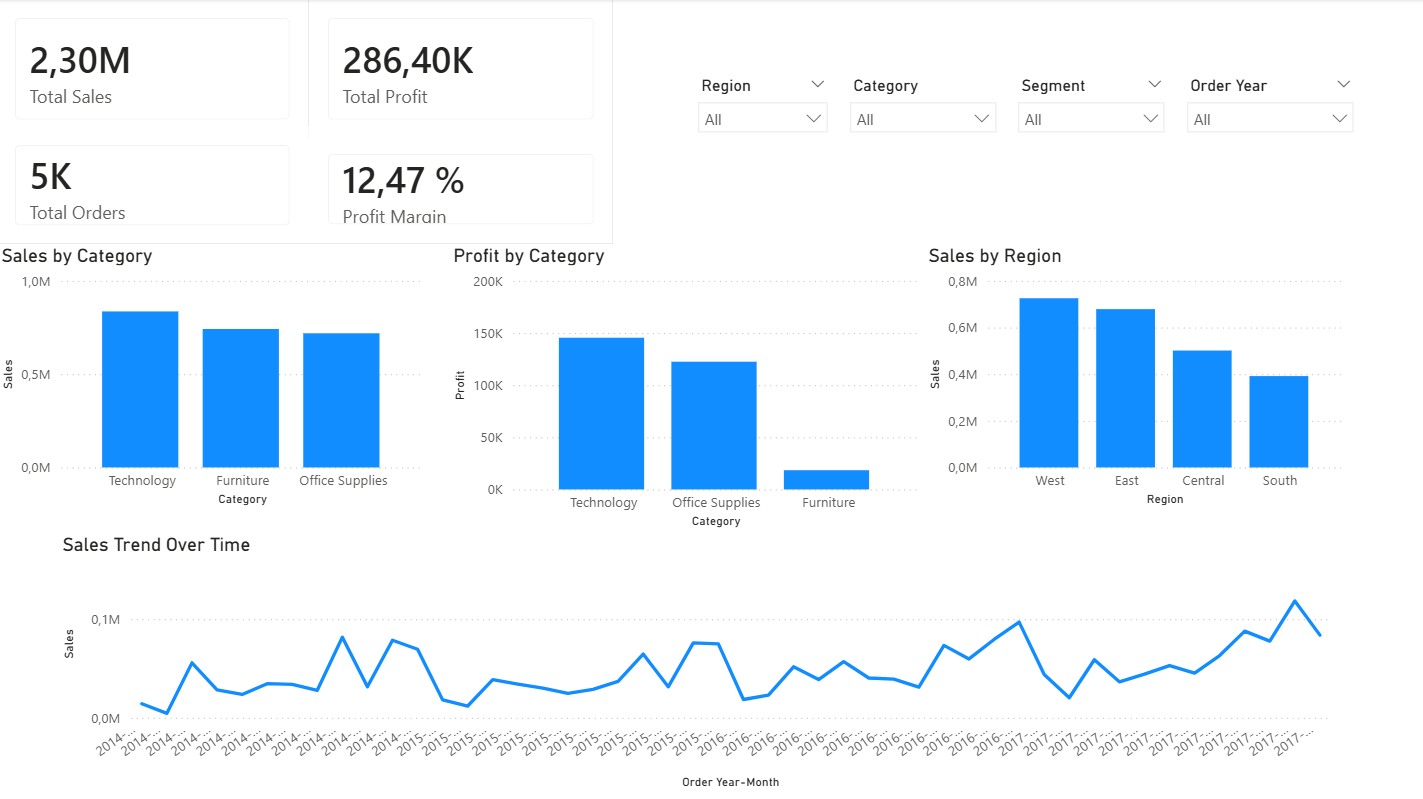

The dashboard page shown, as its layout file describes it:
{"tool":"powerbi","page":{"name":"Sales Overview","canvas":[1280,720],"ordinal":0},"visuals":[{"type":"columnChart","fields":{"Category":["superstore_powerbi_ready.Region"],"Y":["Sum(superstore_powerbi_ready.Sales)"]},"box":[829.9,219.4,379.8,239.1],"z":0},{"type":"columnChart","fields":{"Category":["superstore_powerbi_ready.Category"],"Y":["Sum(superstore_powerbi_ready.Sales)"]},"box":[0,219.4,388.2,239.1],"z":1000},{"type":"clusteredColumnChart","fields":{"Category":["superstore_powerbi_ready.Category"],"Y":["Sum(superstore_powerbi_ready.Profit)"]},"box":[405.1,219.4,426.7,258.8],"z":2000},{"type":"cardVisual","fields":{"Data":["superstore_powerbi_ready.Total Sales"]},"box":[0,0,280.1,125.3],"z":3000,"group":"g2"},{"type":"cardVisual","fields":{"Data":["superstore_powerbi_ready.Total Profit"]},"box":[280.1,0,272.2,125.3],"z":3001,"group":"g2"},{"type":"cardVisual","fields":{"Data":["superstore_powerbi_ready.Total Orders"]},"box":[0,113.4,280.1,106],"z":3002,"group":"g2"},{"type":"cardVisual","fields":{"Data":["superstore_powerbi_ready.Profit_Margin"]},"box":[280.1,121.6,272.2,97.9],"z":3003,"group":"g2"},{"type":"lineChart","title":"Sales Trend Over Time","fields":{"Category":["superstore_powerbi_ready.Order Year-Month"],"Y":["Sum(superstore_powerbi_ready.Sales)"]},"box":[54.4,478.2,1145,233.5],"z":3004},{"type":"slicer","fields":{"Values":["superstore_powerbi_ready.Region"]},"box":[618.9,64.7,136.2,71.3],"z":3006,"group":"g1"},{"type":"slicer","fields":{"Values":["superstore_powerbi_ready.Category"]},"box":[755.1,64.7,150.6,71.3],"z":3007,"group":"g1"},{"type":"slicer","fields":{"Values":["superstore_powerbi_ready.Segment"]},"box":[905.7,64.7,151.5,71.3],"z":3008,"group":"g1"},{"type":"slicer","fields":{"Values":["superstore_powerbi_ready.Order Year"]},"box":[1057.2,64.7,169.4,71.3],"z":3009,"group":"g1"},{"type":"group","id":"g1","title":"Group 1","box":[618.9,64.7,607.6,71.3],"z":3010},{"type":"group","id":"g2","title":"Group 2","box":[0,0,552.3,219.4],"z":3011}]}

Visuals, with their boxes in screenshot pixels (x1, y1, x2, y2), scaled from the page's 1280x720 canvas onto the 1423x799 screenshot:
columnChart - superstore_powerbi_ready.Region x Sum(superstore_powerbi_ready.Sales): 923:243:1345:509
columnChart - superstore_powerbi_ready.Category x Sum(superstore_powerbi_ready.Sales): 0:243:432:509
clusteredColumnChart - superstore_powerbi_ready.Category x Sum(superstore_powerbi_ready.Profit): 450:243:925:531
cardVisual - superstore_powerbi_ready.Total Sales: 0:0:311:139
cardVisual - superstore_powerbi_ready.Total Profit: 311:0:614:139
cardVisual - superstore_powerbi_ready.Total Orders: 0:126:311:243
cardVisual - superstore_powerbi_ready.Profit_Margin: 311:135:614:244
"Sales Trend Over Time" lineChart: 60:531:1333:790
slicer - superstore_powerbi_ready.Region: 688:72:839:151
slicer - superstore_powerbi_ready.Category: 839:72:1007:151
slicer - superstore_powerbi_ready.Segment: 1007:72:1175:151
slicer - superstore_powerbi_ready.Order Year: 1175:72:1364:151
"Group 1" group: 688:72:1364:151
"Group 2" group: 0:0:614:243
